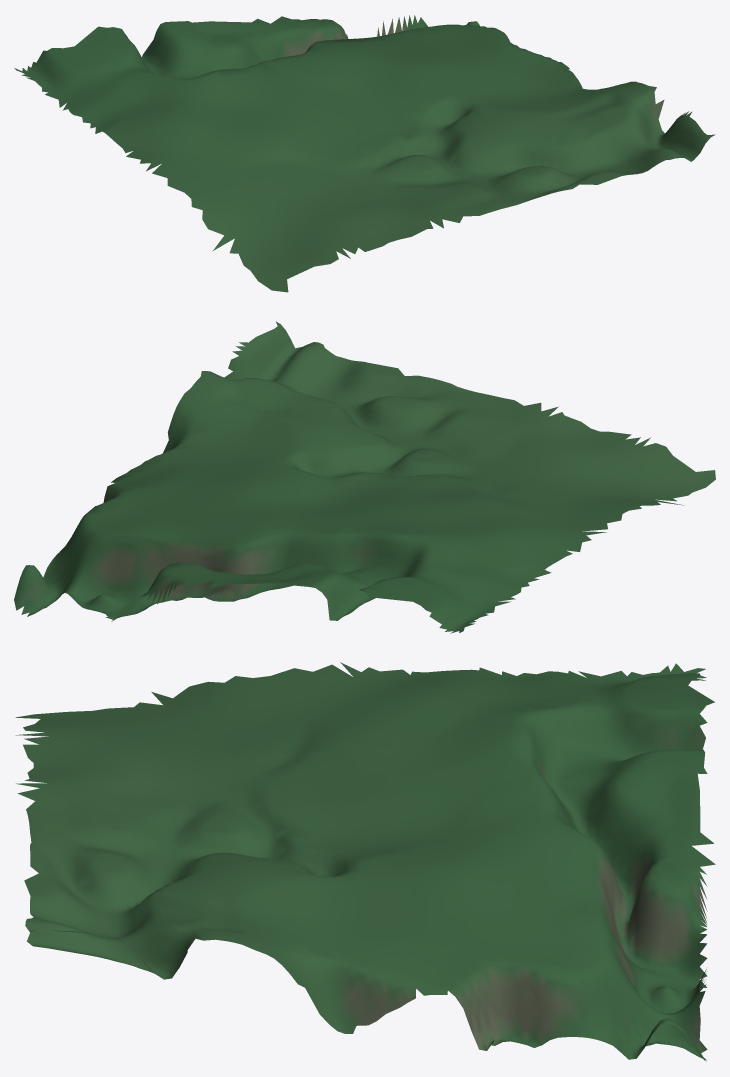
The model's file is payo_land_xm2_y8.glb.
The picture shows the model from 3 angles, top to bottom: view 1: azimuth 30°, elevation 25°; view 2: azimuth 150°, elevation 25°; view 3: azimuth 270°, elevation 25°; orthographic projection. The views are drawn at different scales.
Parts seen in each view (by area): view 1: payo_land_xm2_y8; view 2: payo_land_xm2_y8; view 3: payo_land_xm2_y8.
Part boxes in pixels (box(x1,y1,x2,y2)): payo_land_xm2_y8: box(14, 15, 715, 292); payo_land_xm2_y8: box(14, 321, 715, 633); payo_land_xm2_y8: box(15, 662, 715, 1061).
Size of the model in its own units: 268 by 58.37 by 267.
